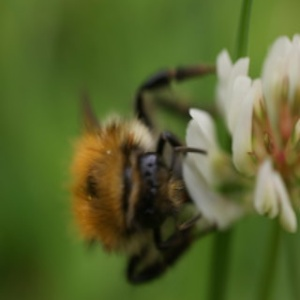bee: (59, 59, 223, 285)
